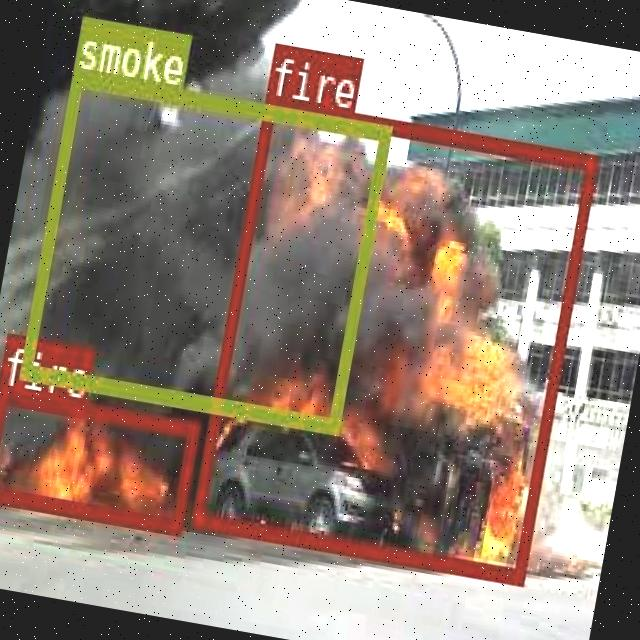fire: (189, 94, 596, 582), (0, 385, 197, 532)
smoke: (18, 69, 390, 432)
